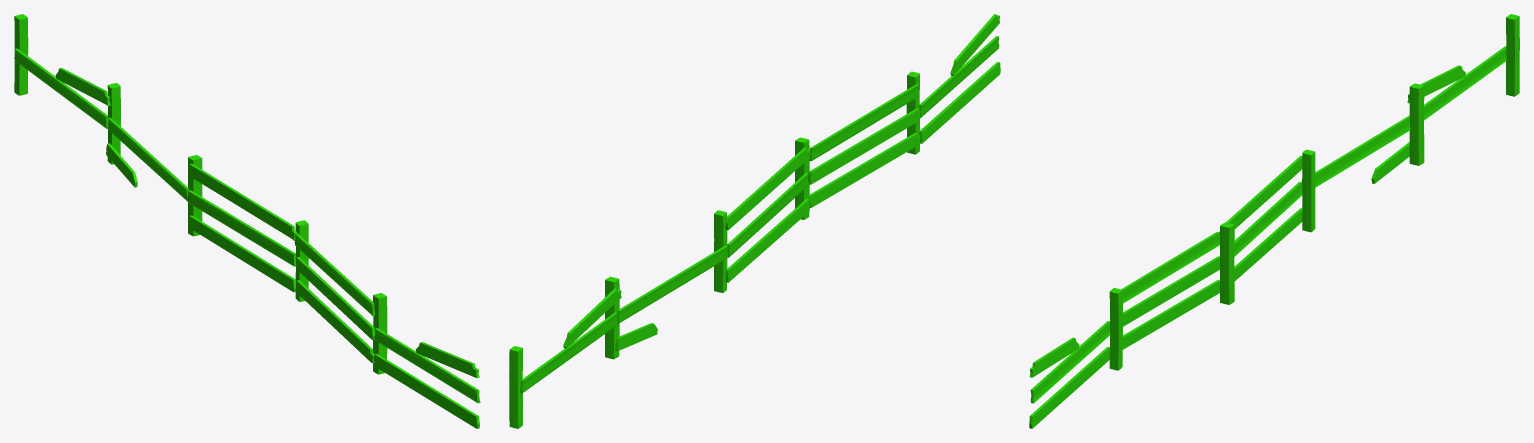
The model's file is Farm_Fence_x4_03.fbx.
3 renders of one model, left to right at view 1: azimuth 30°, elevation 25°; view 2: azimuth 150°, elevation 25°; view 3: azimuth 330°, elevation 25°, orthographic.
Parts seen in each view (by area): view 1: Farm_Fence_x4_03; view 2: Farm_Fence_x4_03; view 3: Farm_Fence_x4_03.
Part boxes in pixels (x1,y1,x2,y2): Farm_Fence_x4_03: [14, 14, 480, 428]; Farm_Fence_x4_03: [509, 14, 1000, 428]; Farm_Fence_x4_03: [1029, 14, 1519, 428].
Size of the model in its own units: 52.84 by 134 by 1501.
